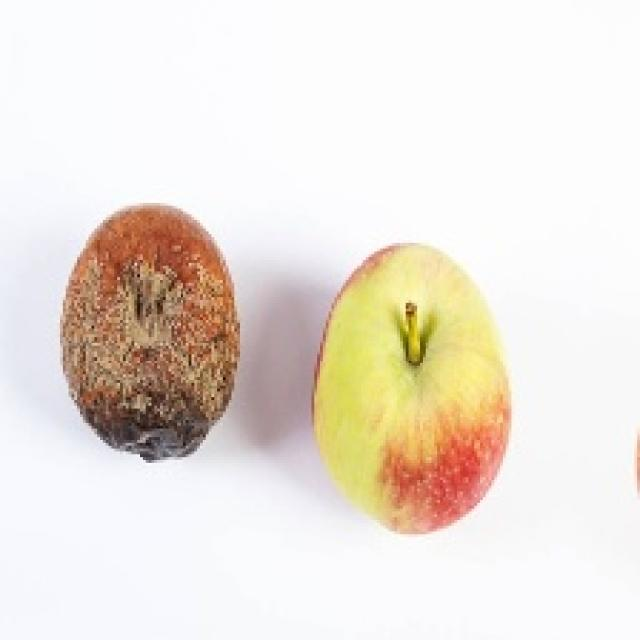rotten_apple: (64, 207, 237, 458)
